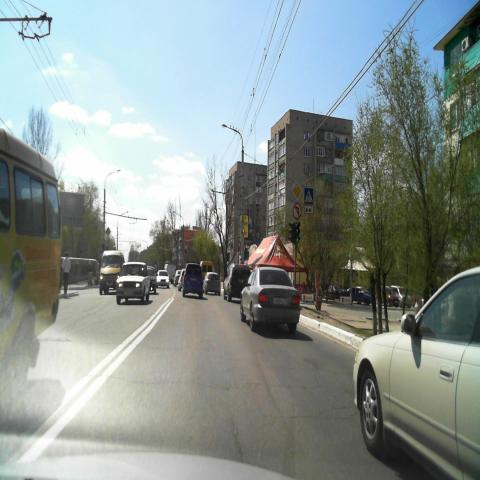3_18_2: (292, 203, 302, 219)
